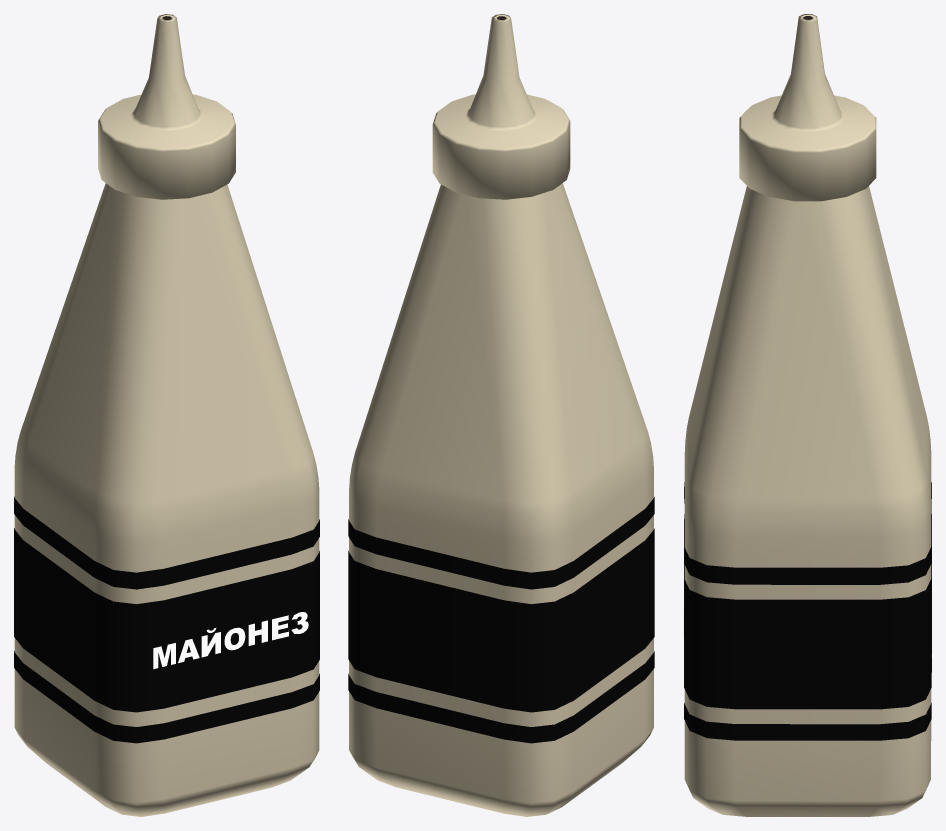
The model's file is Mayonnaise.glb.
3 views of the same model, side by side, from view 1: azimuth 30°, elevation 25°; view 2: azimuth 150°, elevation 25°; view 3: azimuth 270°, elevation 25° (orthographic).
Visible parts, largest first — view 1: Mayonnaise; view 2: Mayonnaise; view 3: Mayonnaise.
Boxes of the visible parts, x1,y1,x2,y2 form: Mayonnaise: (14,14,319,816); Mayonnaise: (348,14,654,816); Mayonnaise: (683,14,931,816).
Size of the model in its own units: 0.083 by 0.2731 by 0.0816.
3 materials, 1 textured.
